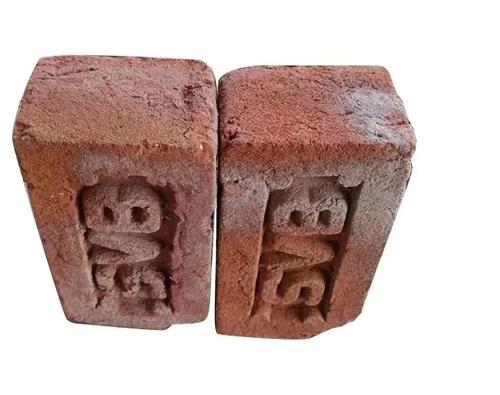brick: (215, 136, 413, 337), (13, 129, 211, 329)
